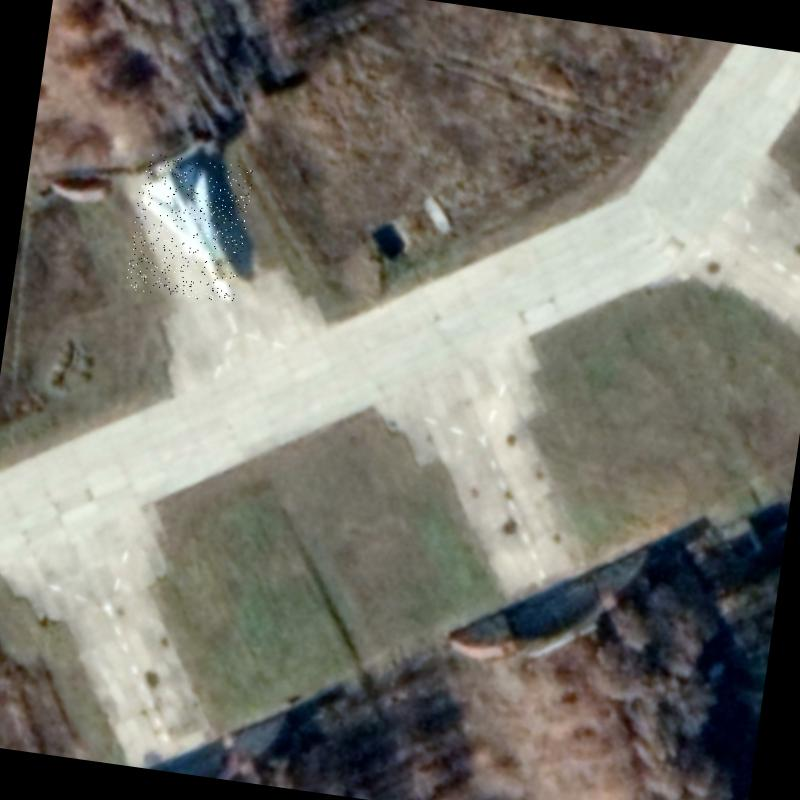A20: (125, 152, 254, 304)
